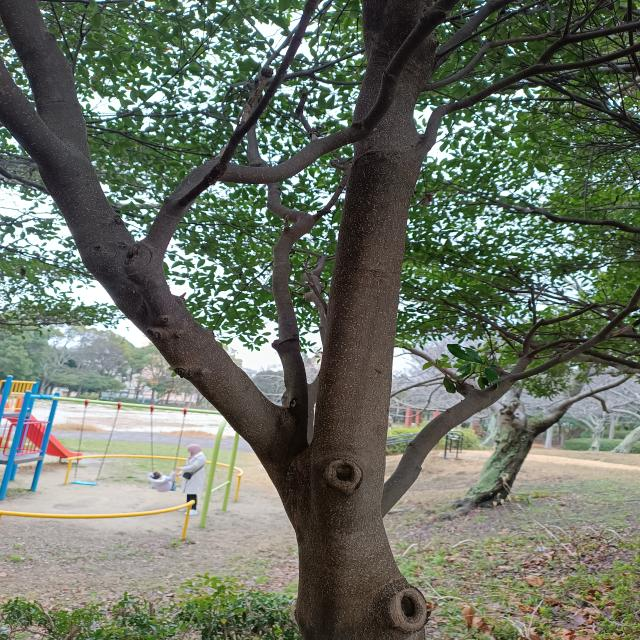Branch: (39, 143, 286, 470), (311, 0, 439, 462), (0, 0, 84, 140), (0, 57, 54, 167)
Twig: (146, 0, 459, 273), (184, 0, 318, 207), (266, 185, 319, 428), (427, 63, 546, 140), (428, 28, 561, 90), (441, 0, 516, 65), (538, 21, 640, 61), (547, 43, 640, 71)
